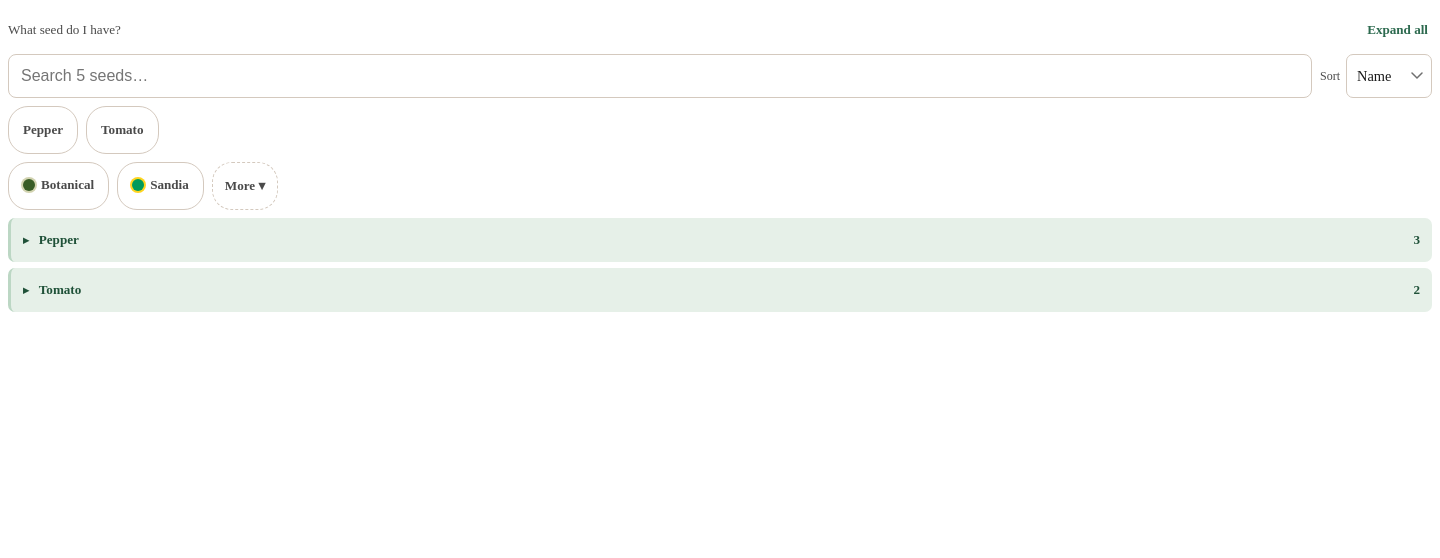
it: My seeds — filtering and sorting › Hottest is offered only with heat data; it leads with Pepper, opens it, and orders hottest first
Expected: the button with test id "facet-group-header" showing "▸ Pepper 3" is shown, [8,218,1432,262]
Expected: the element with test id "my-seeds-view" is shown, [8,8,1432,312]
Select "Hottest" in the dropdown with test id "my-seeds-sort": (1389, 76) [1346,54,1432,98]
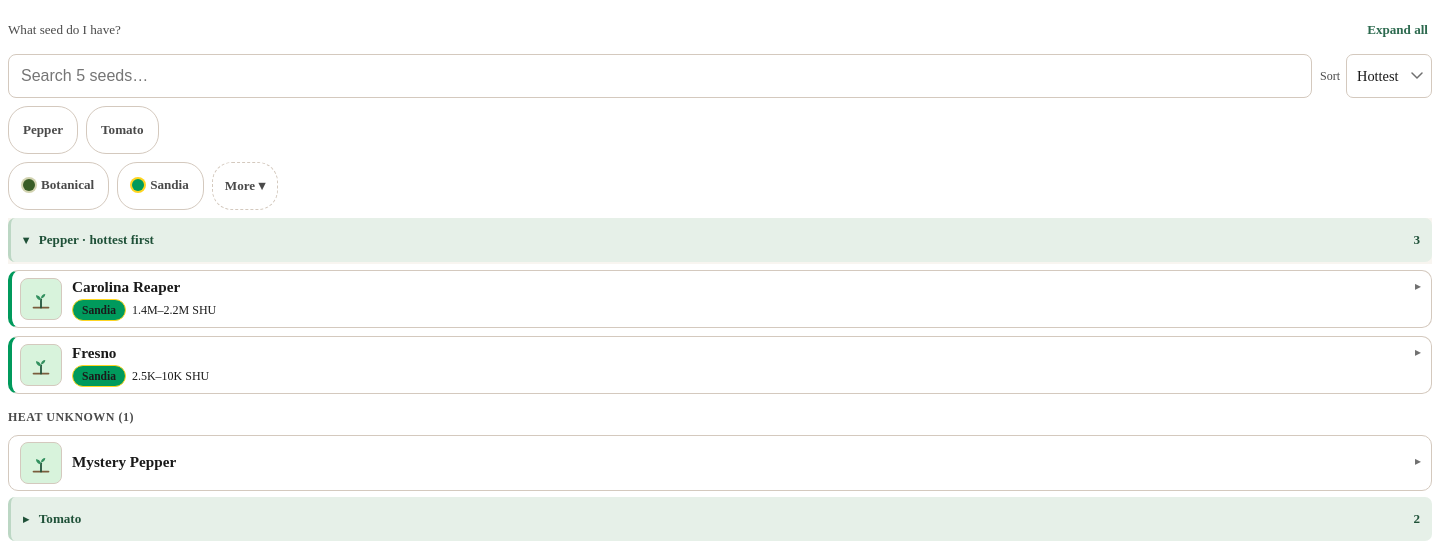
Now the button with test id "facet-group-header" reads "▾ Pepper · hottest first 3", box [8,218,1432,262]
Now the text with test id "my-seeds-heat-unknown" reads "Heat unknown (1)", box [8,410,134,424]
